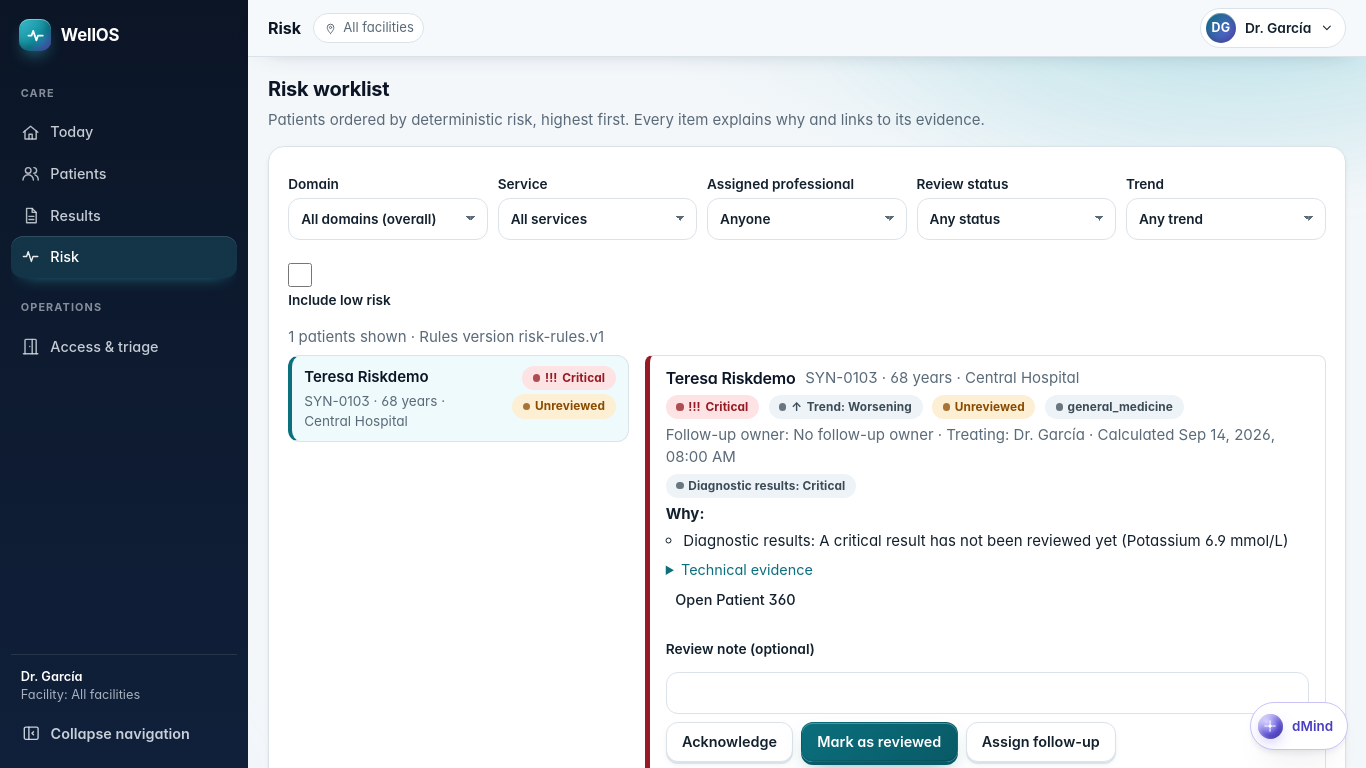
Test case: risk worklist › acknowledge posts the displayed assessment and reloads
Type "Seen" into the field labelled "Review note (optional)" at (987, 693), box [666,672,1309,714]
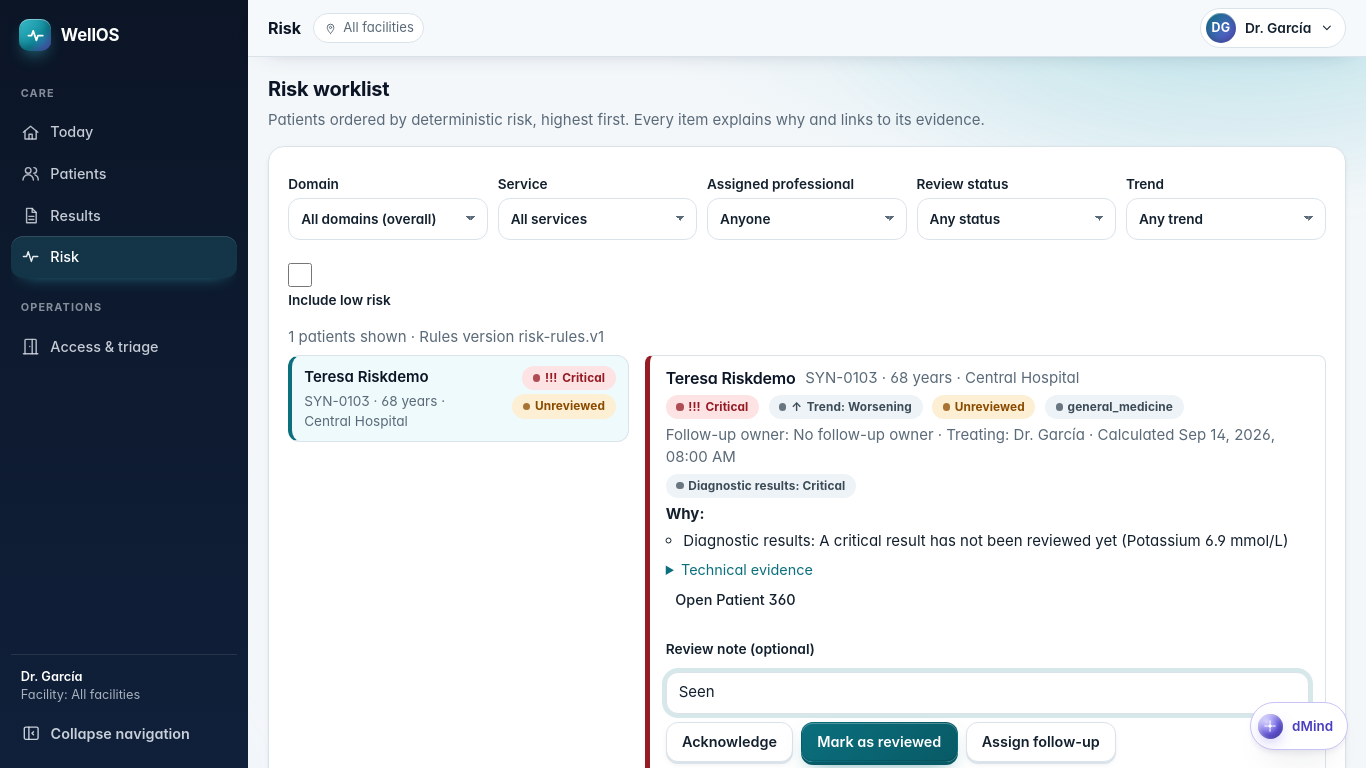
Click the button "Acknowledge" at (729, 742), box [666,722,793,762]
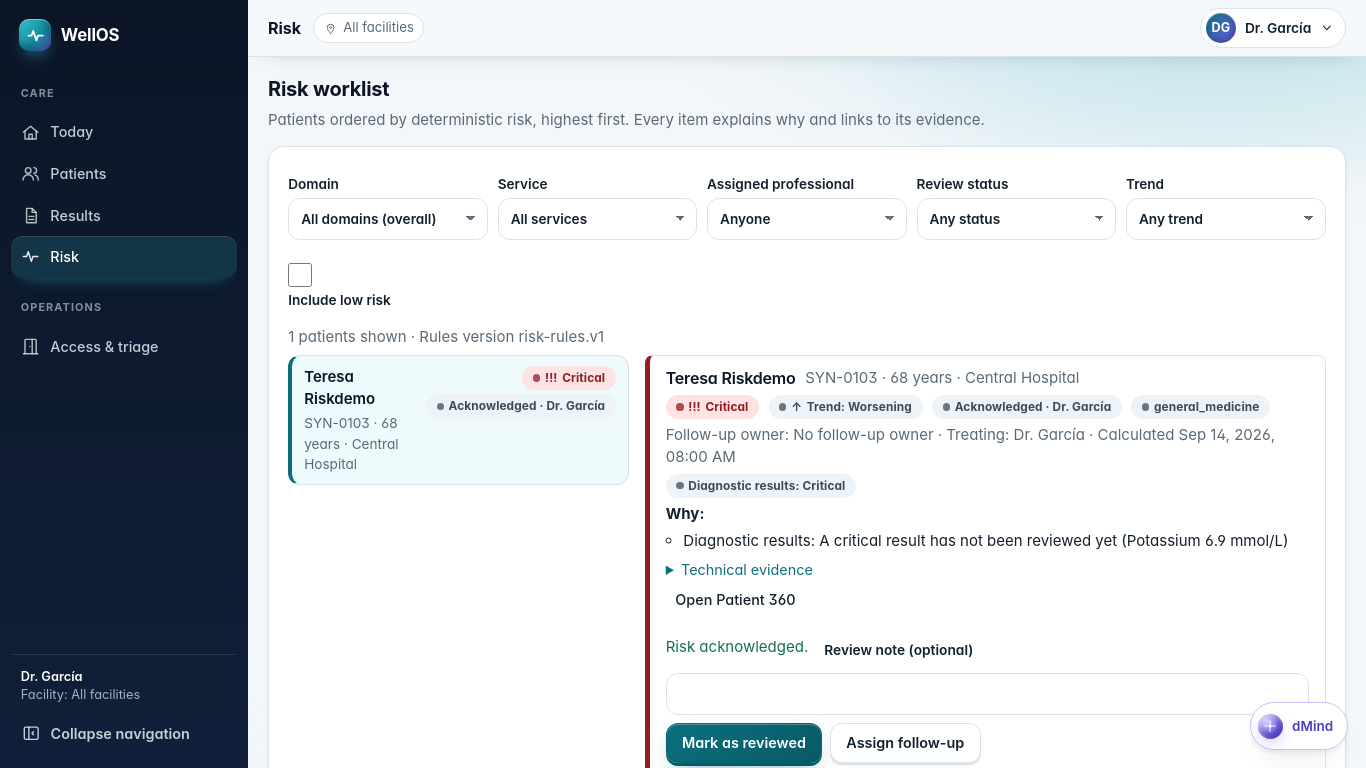
Now the text "Risk acknowledged." is shown, box [666,636,808,658]
